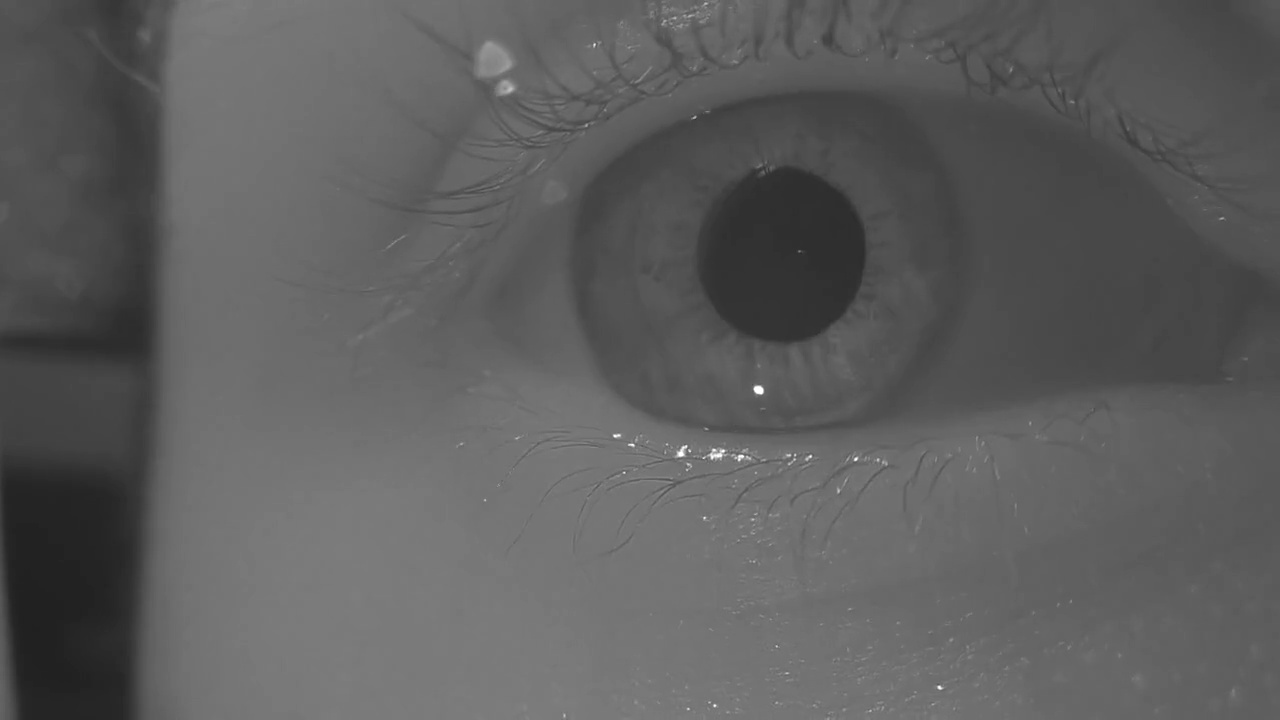pupil: (697, 167, 865, 343)
